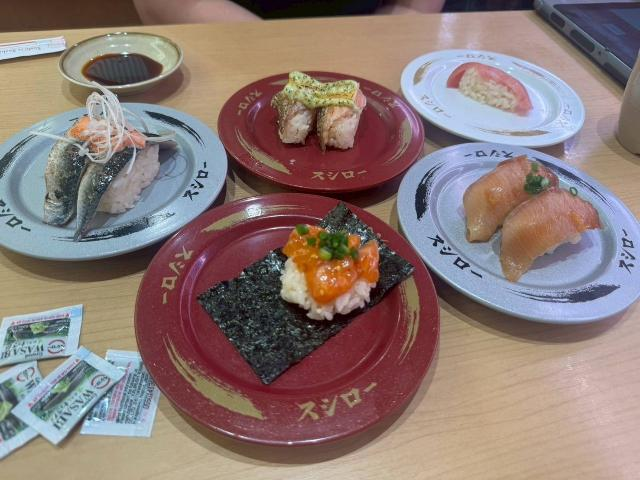janwhite: (395, 55, 600, 149), (470, 260, 640, 329), (149, 103, 238, 199), (400, 171, 474, 273), (40, 211, 186, 257), (0, 133, 42, 262), (599, 180, 640, 264), (433, 151, 527, 176), (38, 115, 74, 129)
